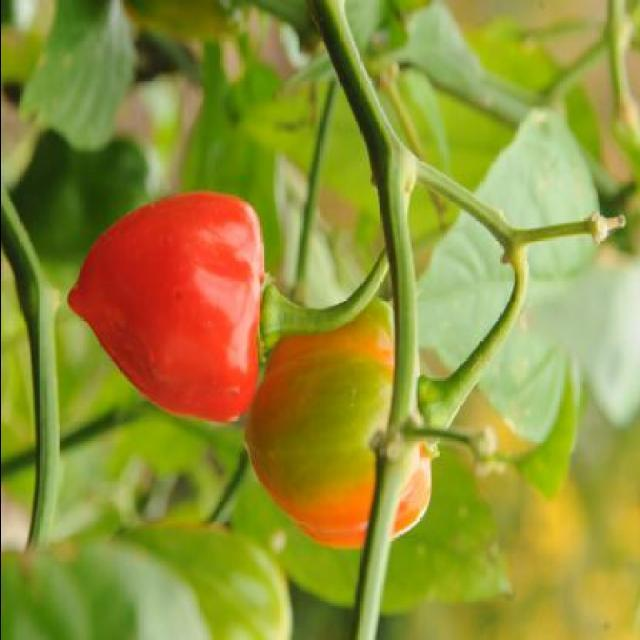Bell pepper: (236, 280, 532, 551), (65, 187, 389, 424), (236, 298, 428, 546)
